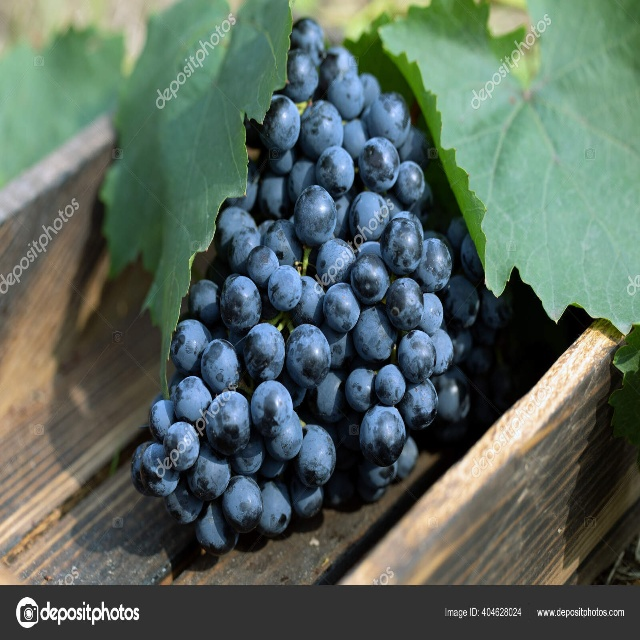grape: (133, 12, 517, 553)
